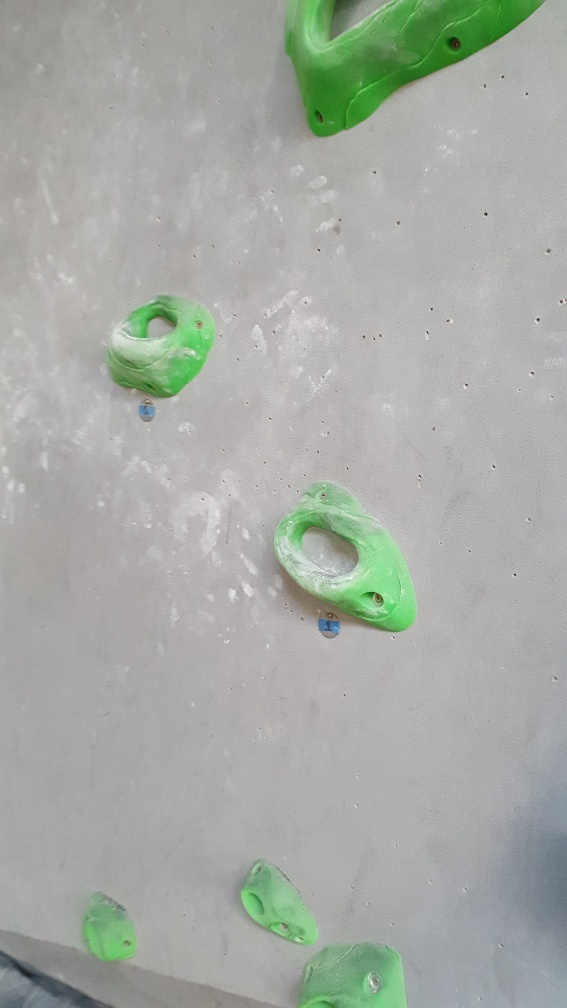Hand Start: (317, 613, 343, 640), (136, 399, 158, 423)
Pocket: (282, 1, 548, 147), (267, 478, 419, 636), (108, 290, 216, 399)
